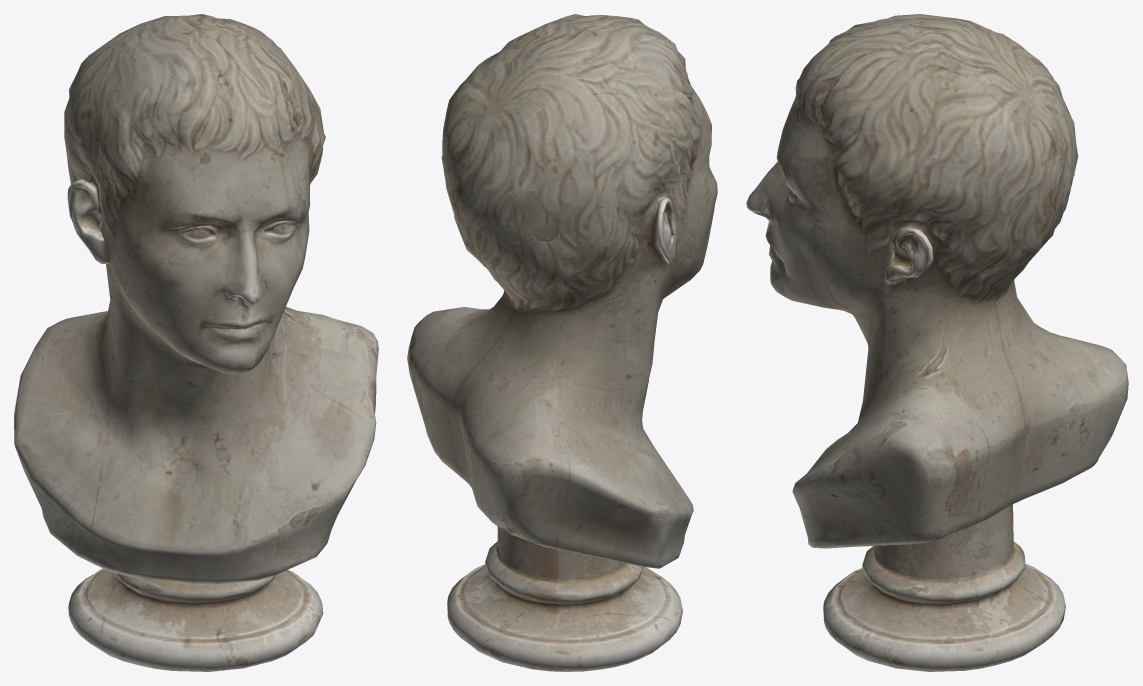
Rendered from marble_bust_01_lod2.glb.
3 renders of one model, left to right at view 1: azimuth 30°, elevation 25°; view 2: azimuth 150°, elevation 25°; view 3: azimuth 270°, elevation 25°, orthographic. The views are drawn at different scales.
Parts seen in each view (by area): view 1: marble_bust_01; view 2: marble_bust_01; view 3: marble_bust_01.
Boxes of the visible parts, <box> form: marble_bust_01: <box>14,14,378,671</box>; marble_bust_01: <box>407,14,717,671</box>; marble_bust_01: <box>746,14,1128,671</box>.
Bounding box in the file's own units: 0.2717 × 0.5149 × 0.2997.
1 material, 1 textured.
